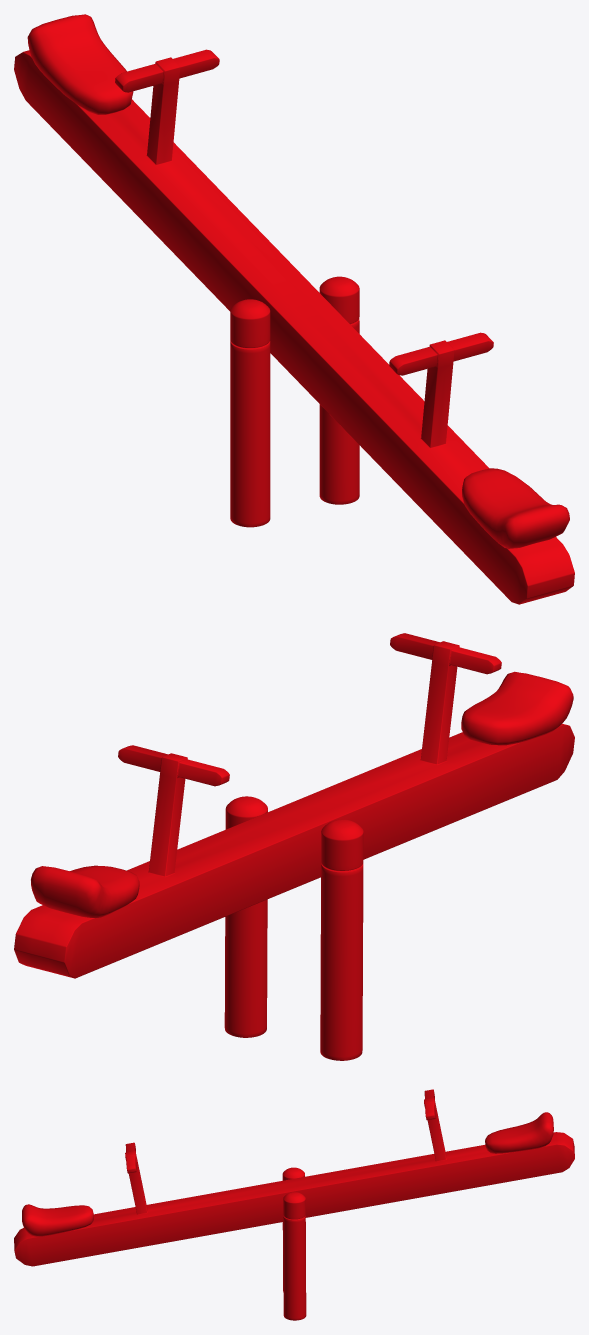
Rendered from seesaw.glb.
3 views of the same model, one above another, from view 1: azimuth 30°, elevation 25°; view 2: azimuth 150°, elevation 25°; view 3: azimuth 270°, elevation 25° (orthographic). The views are drawn at different scales.
Visible parts, largest first — view 1: Whip; view 2: Whip; view 3: Whip.
Part boxes in pixels (x1,y1,x2,y2): Whip: [14, 14, 574, 604]; Whip: [14, 633, 574, 1060]; Whip: [14, 1089, 574, 1320].
Bounding box in the file's own units: 0.0416 × 0.1143 × 0.2873.
